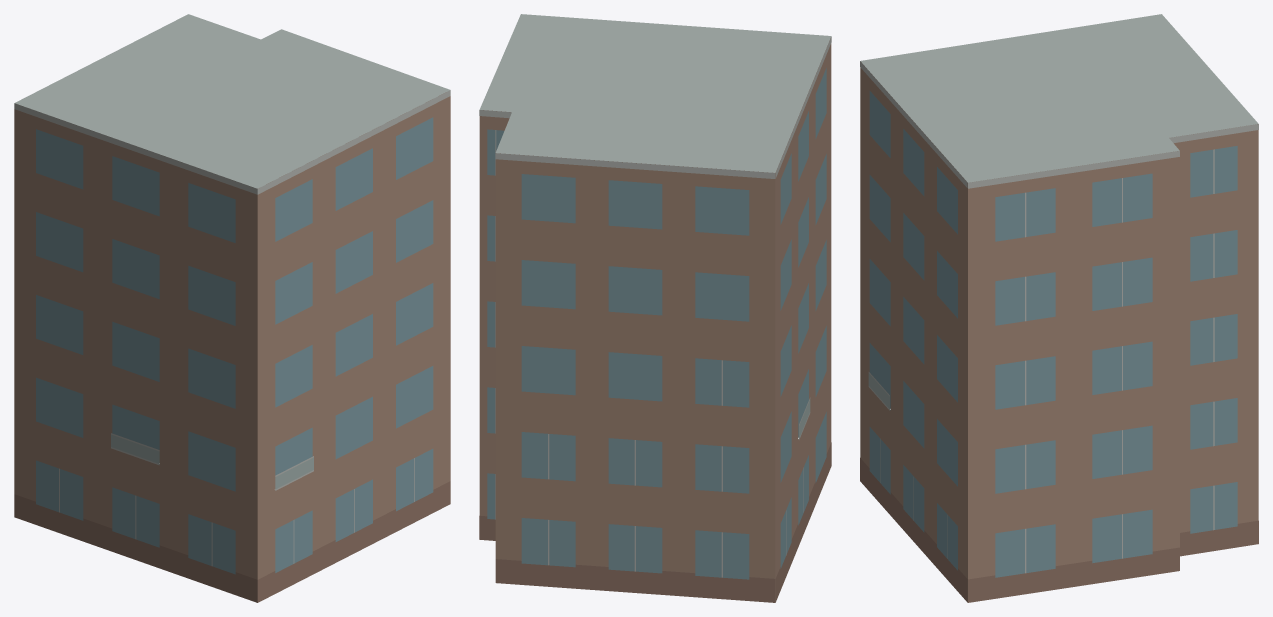
Rendered from survey-upis-32858247.glb.
3 views of the same model, side by side, from view 1: azimuth 30°, elevation 25°; view 2: azimuth 150°, elevation 25°; view 3: azimuth 270°, elevation 25° (orthographic). The views are drawn at different scales.
Visible parts, largest first — view 1: survey-upis-32858247.tmp; view 2: survey-upis-32858247.tmp; view 3: survey-upis-32858247.tmp.
Boxes of the visible parts, <box> form: survey-upis-32858247.tmp: <box>14,14,450,602</box>; survey-upis-32858247.tmp: <box>479,14,831,602</box>; survey-upis-32858247.tmp: <box>860,14,1258,602</box>.
Size of the model in its own units: 14.56 by 16.9 by 14.54.
